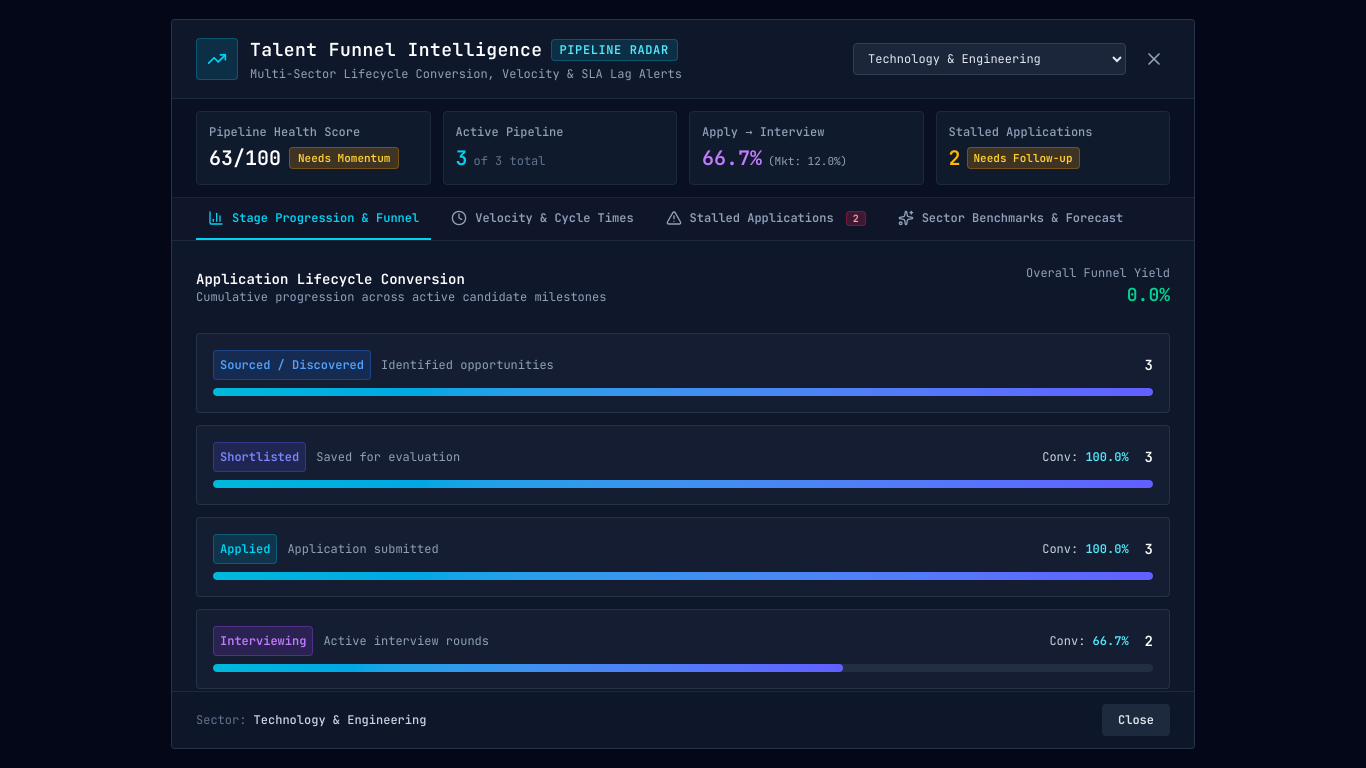
Test: FunnelIntelligenceModal › switches between tabs cleanly
// Switch to Velocity tab
Click the tab "Velocity & Cycle Times" at (542, 219), box [439,198,646,240]
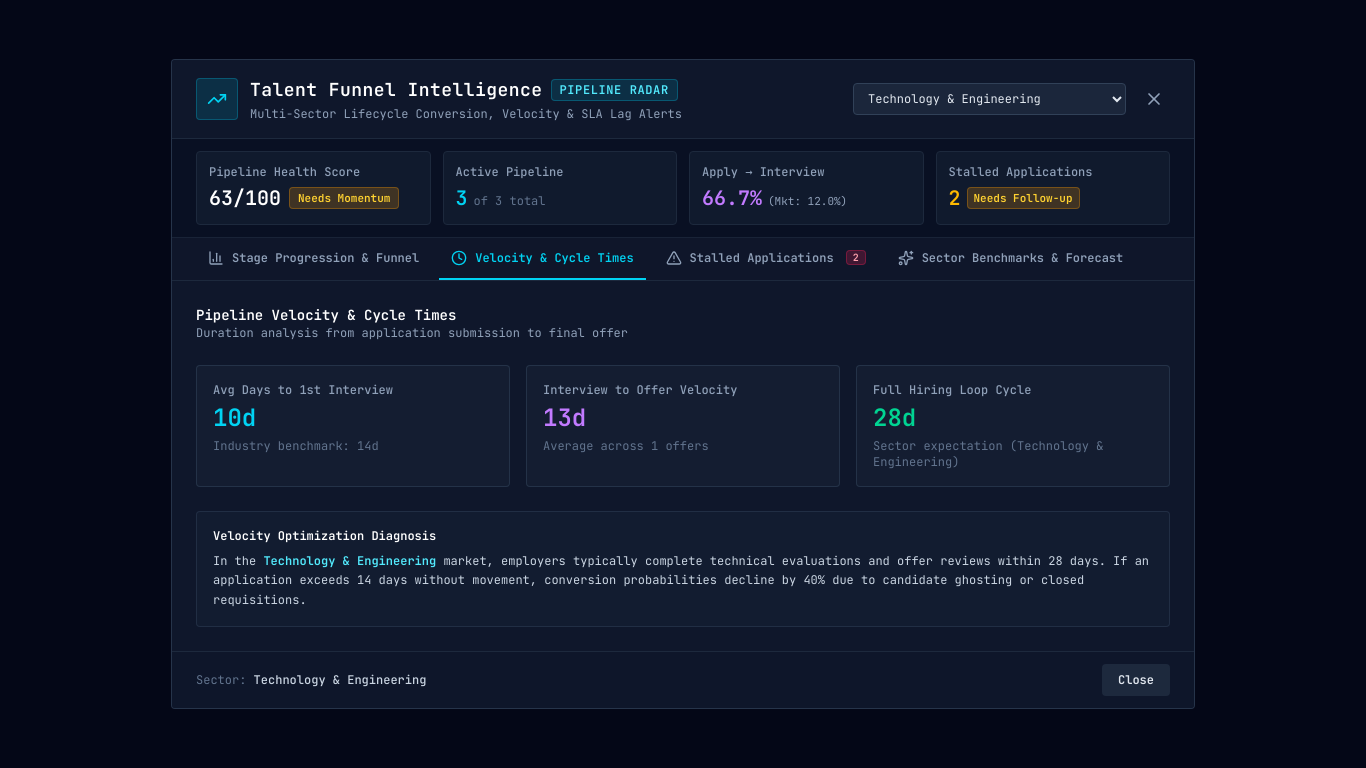
Expected: the heading "Pipeline Velocity & Cycle Times" is shown, [196,306,456,324]
// Switch to Stalled tab
Click the tab "Stalled Applications 2" at (766, 259), box [654,238,878,280]
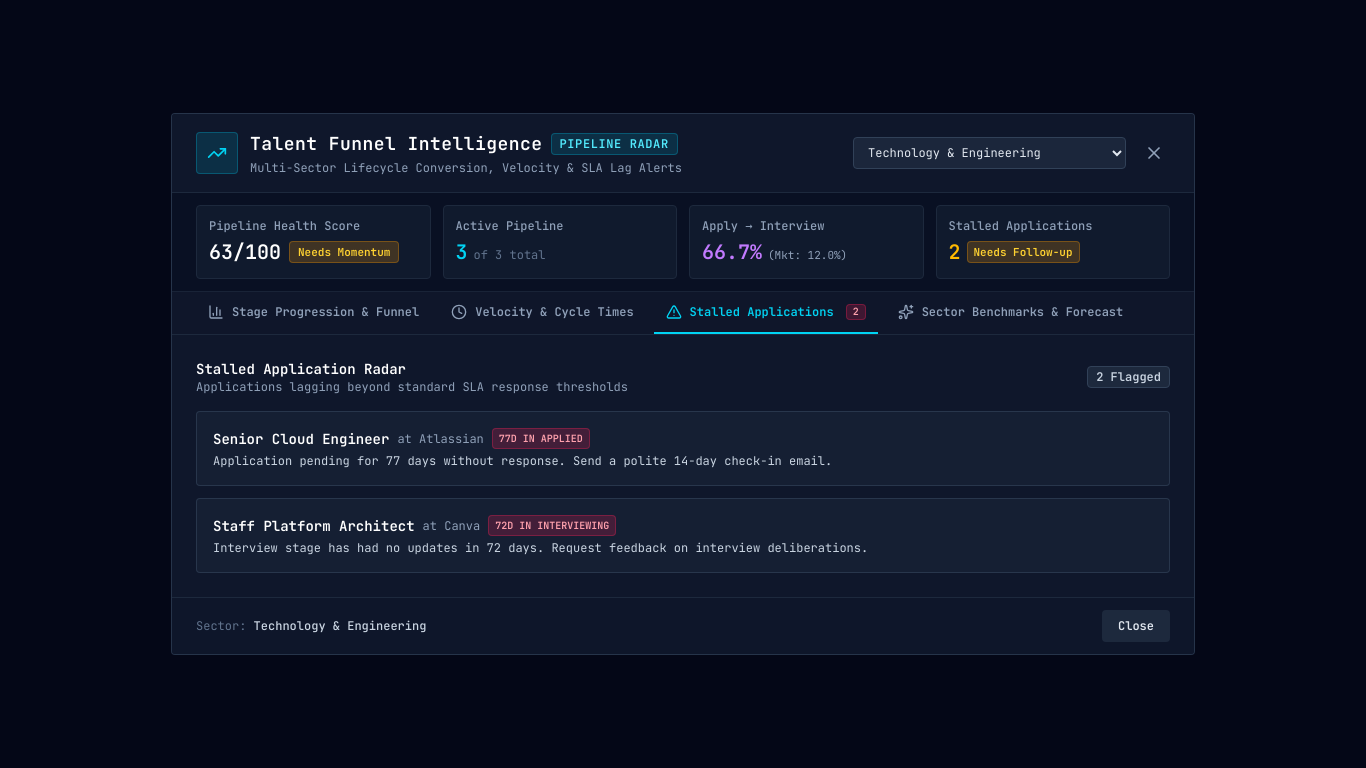
Expected: the heading "Stalled Application Radar" is shown, [196,360,406,378]
// Switch to Benchmarks tab
Click the tab "Sector Benchmarks & Forecast" at (1010, 313), box [886,292,1135,334]
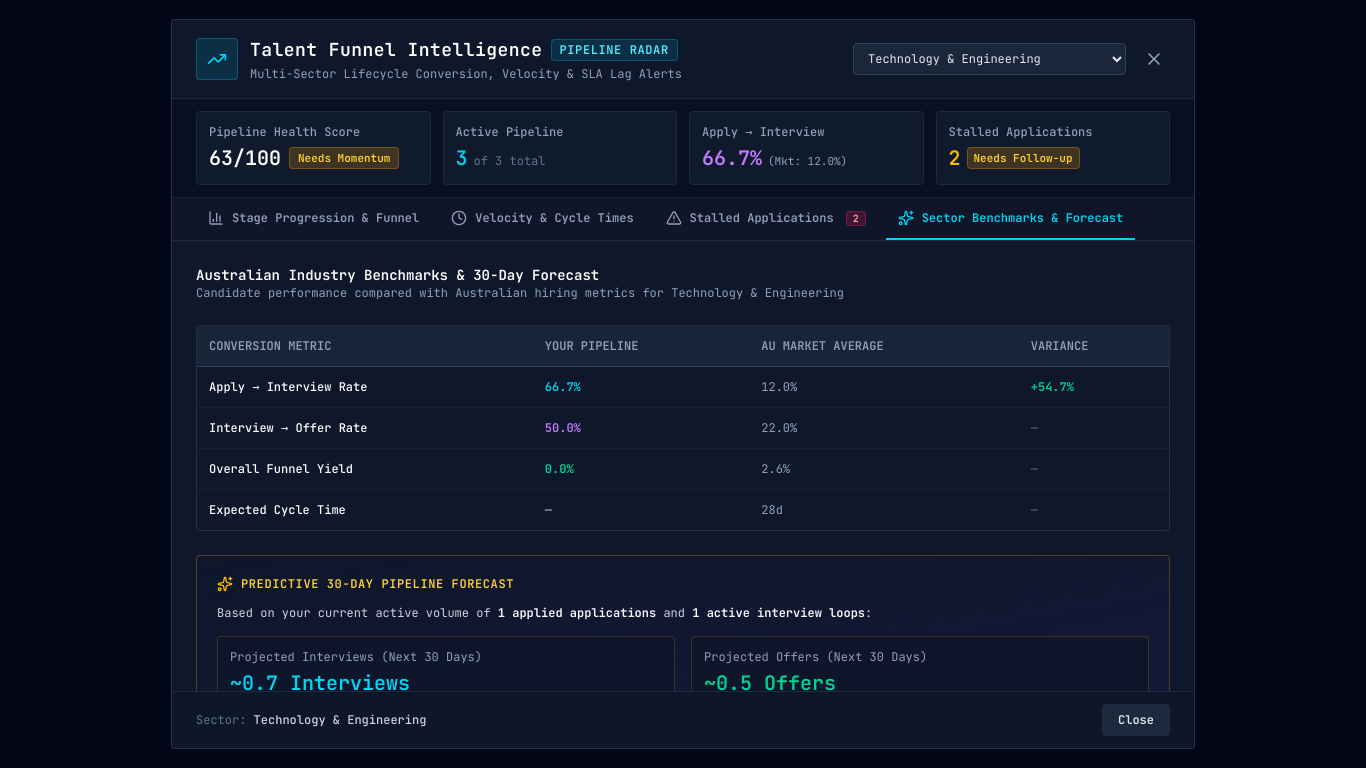
Expected: the heading "Australian Industry Benchmarks & 30-Day Forecast" is shown, [196,266,599,284]
